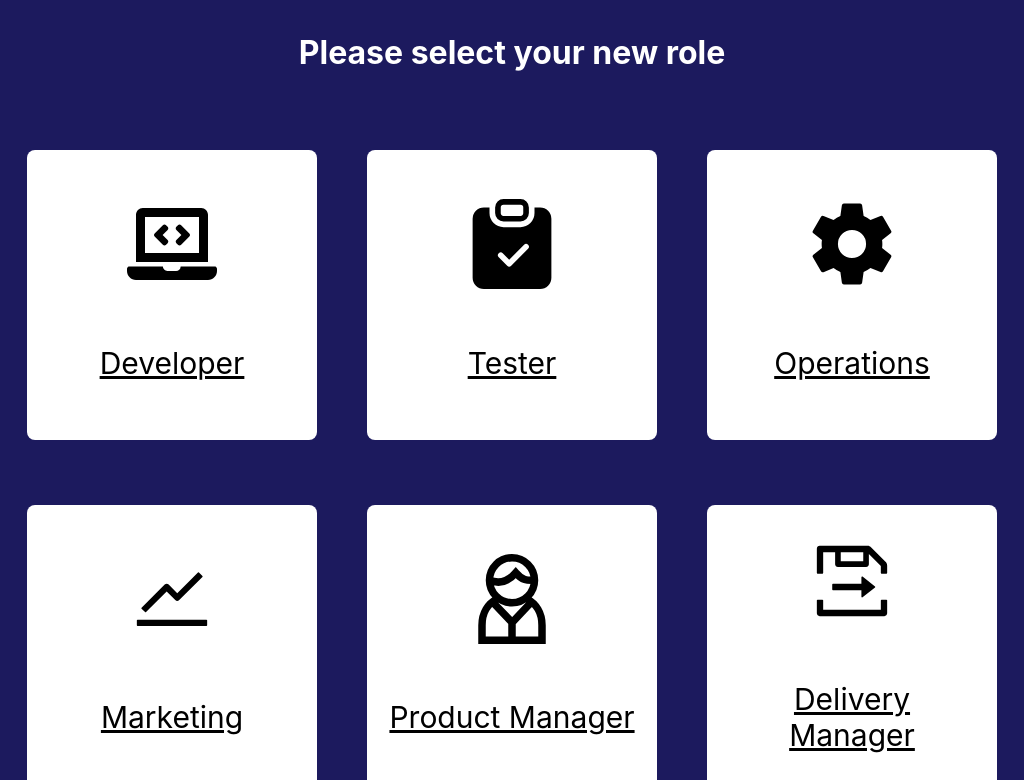
Test: Tester page loads on click › should navigate to the Tester Page on Tester card click
Click the link "Tester": (512, 244) [367,150,657,440]
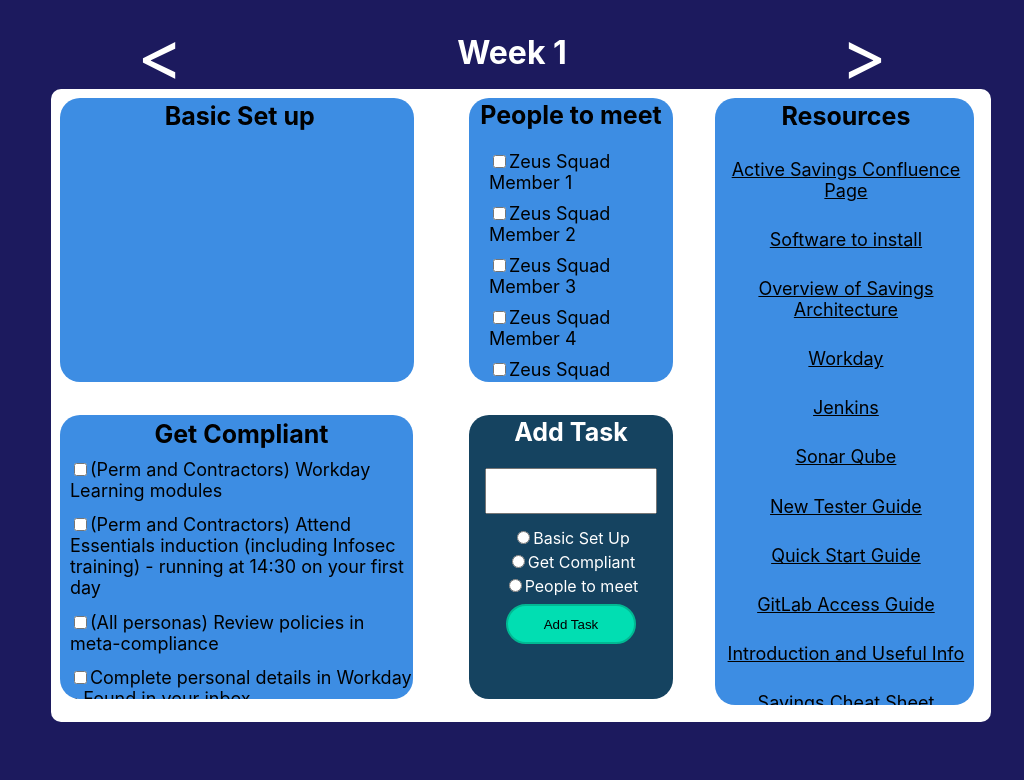
Now the heading "Week 1" is shown, box [457,33,567,67]
